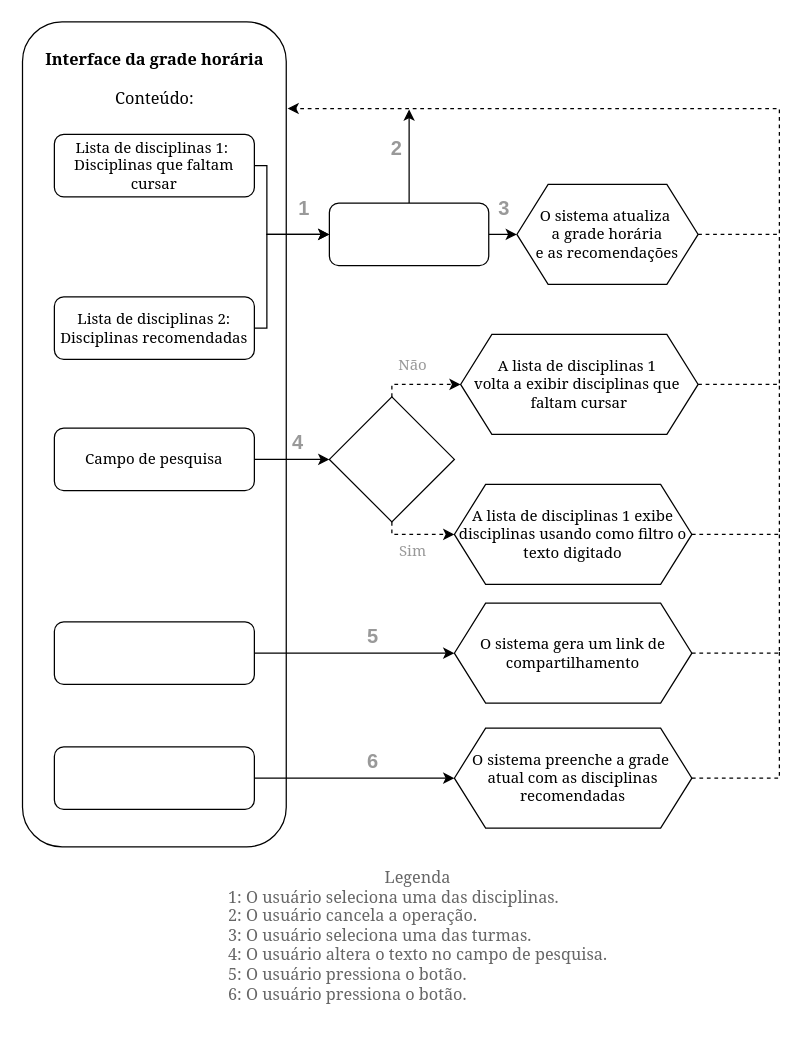
Image size: 811x1046. Some labels were removed from this diagram. The shapes that lost their labels are listed below. From the top down, each one's box as (x1, y1, x2, y2) in pixels, then its label:
(328, 202, 489, 266): Tela de seleção de turmas disponíveis
(328, 396, 454, 522): O campo possui algum texto?
(53, 621, 254, 684): Botão de salvar e/ou compartilhar
(53, 746, 254, 809): Botão de preencher a grade automaticamente
